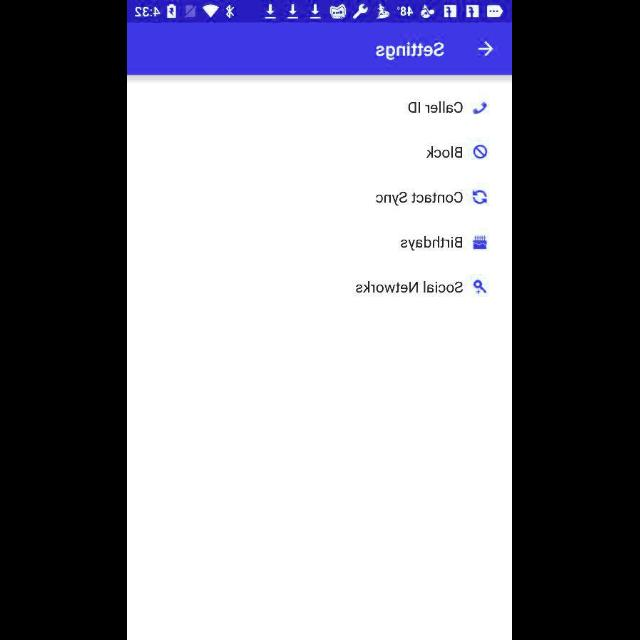icon: (472, 190, 488, 206), (478, 42, 494, 58), (473, 280, 487, 296)
image: (472, 236, 488, 250), (474, 145, 488, 159), (473, 101, 487, 115)
text: (356, 280, 464, 294), (376, 42, 444, 62), (376, 192, 464, 206), (401, 236, 463, 252), (408, 102, 464, 114), (426, 147, 464, 159)
toolbar: (128, 24, 512, 76)
uppertaskbar: (128, 1, 512, 23)
